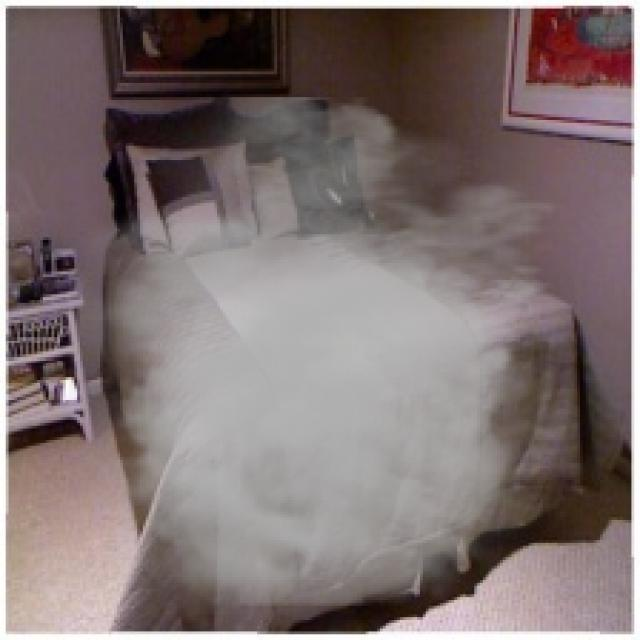Smoke: (69, 97, 608, 637)
